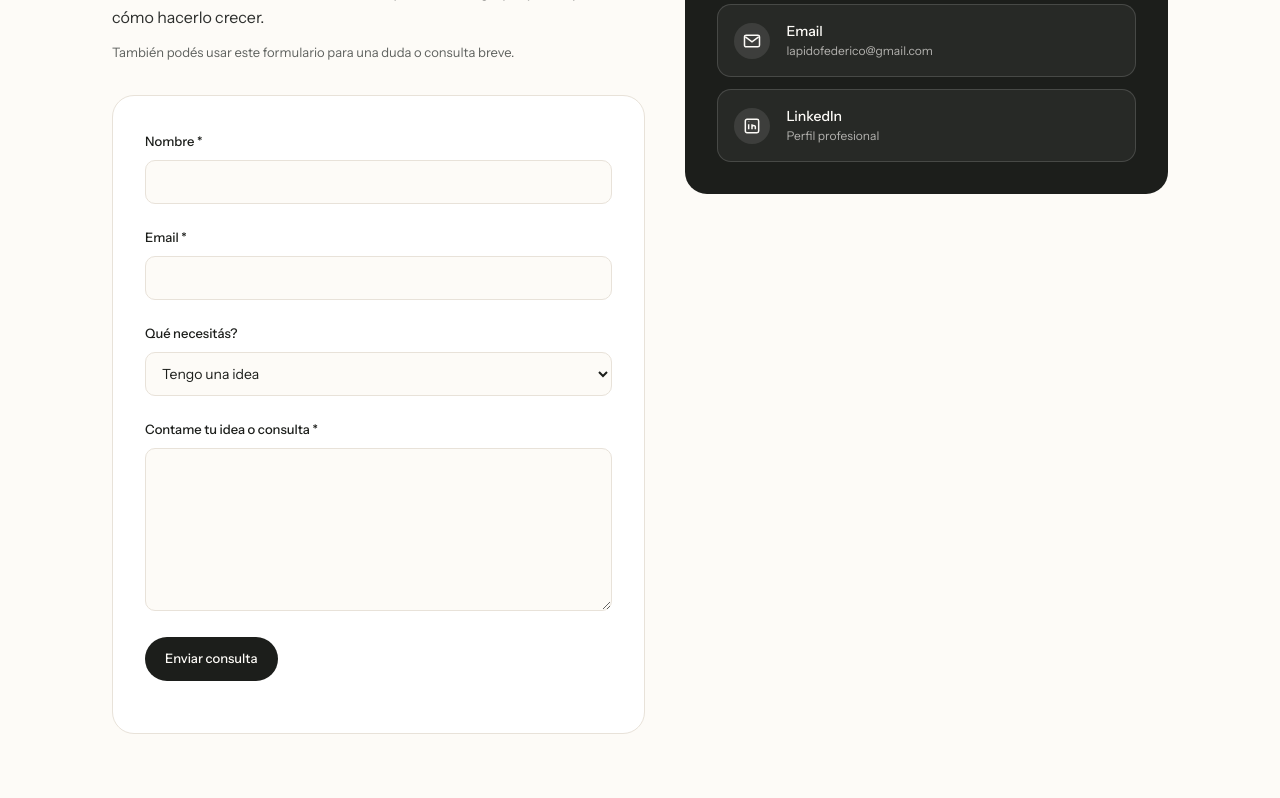
contact validates friendly errors before sending
(page scrolled)
Click the button "Enviar consulta".
click(211, 658)  # box [145,636,278,680]
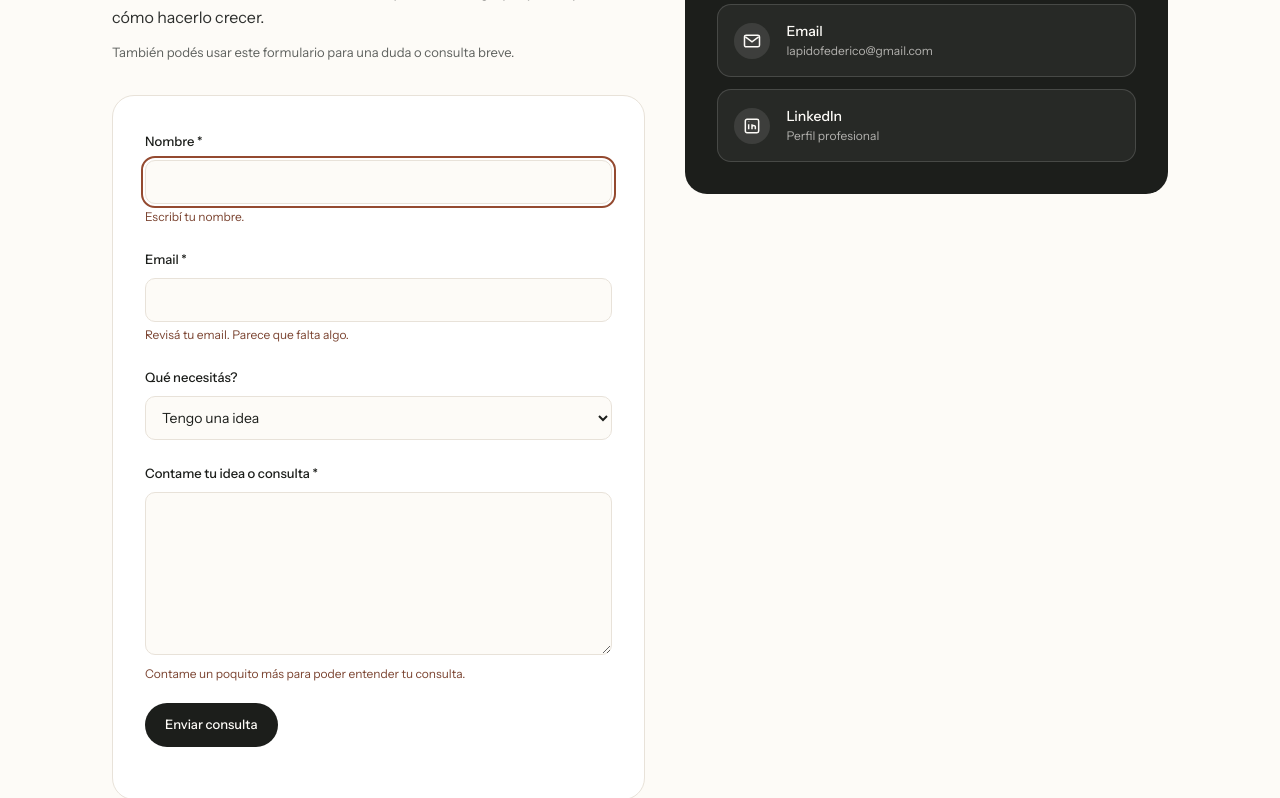
Expected: the text "Escribí tu nombre." is shown, [145,209,244,224]
Expected: the text "Revisá tu email. Parece que falta algo." is shown, [145,327,349,342]
Expected: the text "Contame un poquito más para poder entender tu consulta." is shown, [145,666,465,680]
